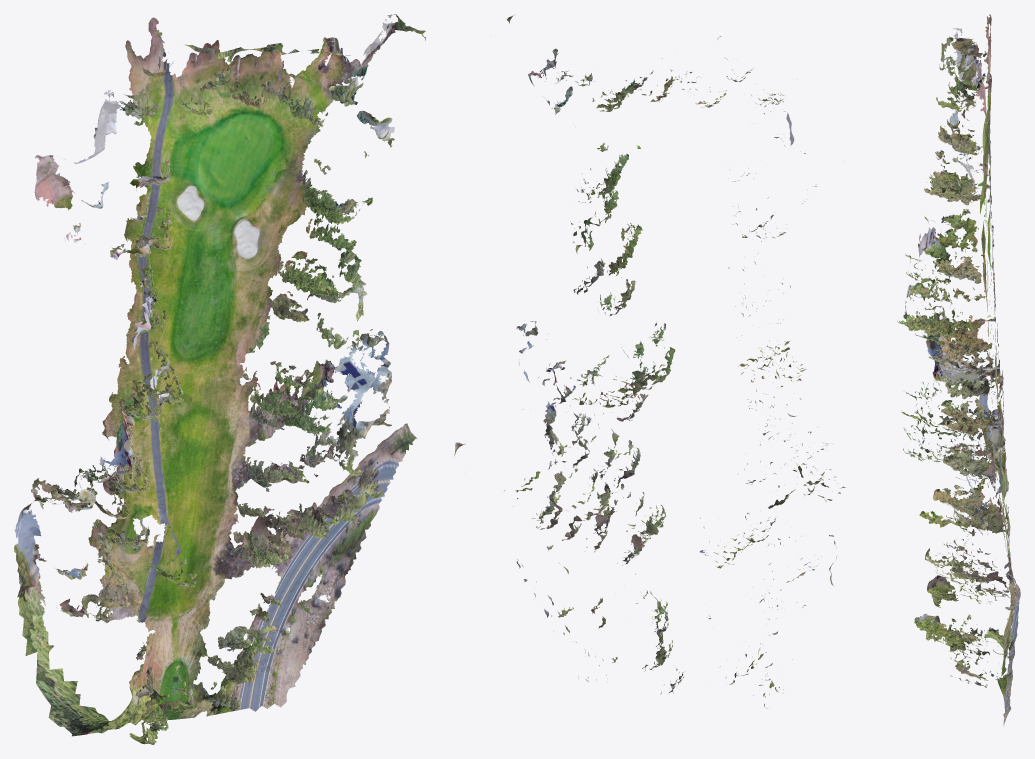
3 renders of one model, left to right at view 1: azimuth 30°, elevation 25°; view 2: azimuth 150°, elevation 25°; view 3: azimuth 270°, elevation 25°, orthographic. The views are drawn at different scales.
Size of the model in its own units: 130 by 217 by 36.29.
41 materials, 41 textured.
